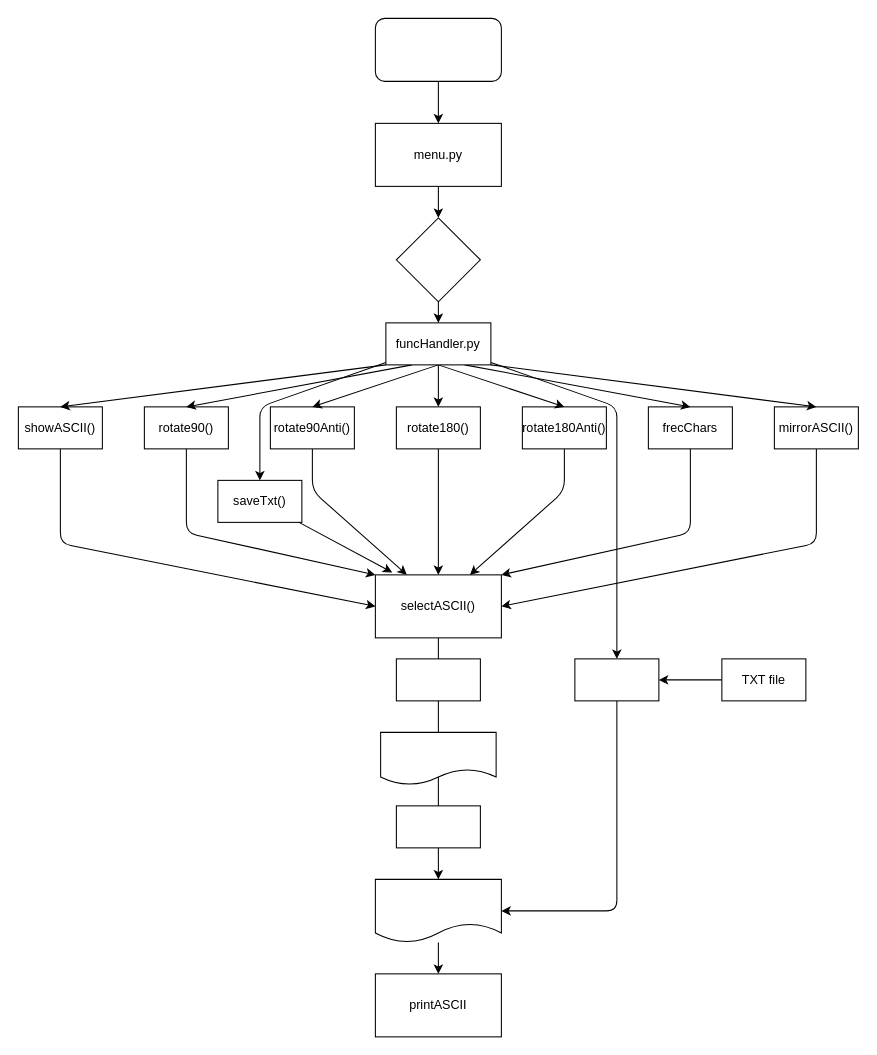
Image size: 877x1055. Some labels were removed from this diagram. The centre of each missing label's shape, as x and y in pixels:
"__main__" goes at point 437,49.
"ASCII Art" goes at point 437,910.
"ASCII en matriz" goes at point 438,758.
"Elección" goes at point 437,259.
"loadText()" goes at point 437,679.
"Modificación escogida" goes at point 437,826.
"readTxt()" goes at point 616,679.
